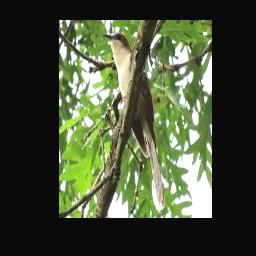Cuckoo: (103, 33, 165, 207)
